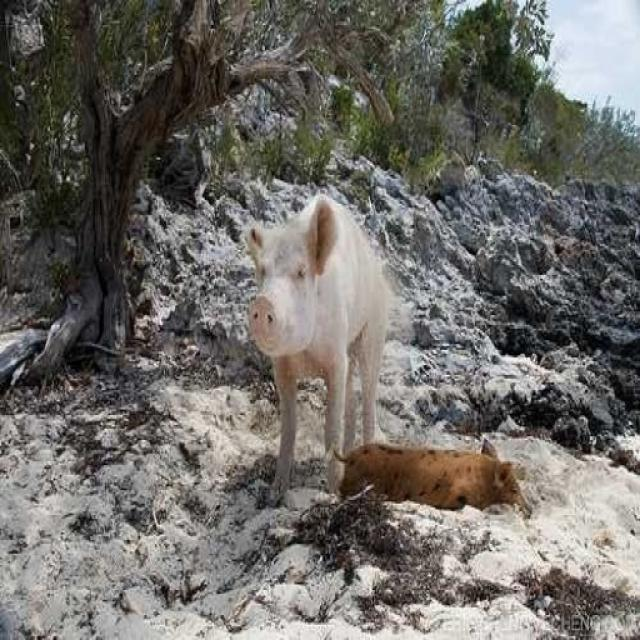pig: (168, 151, 432, 417)
